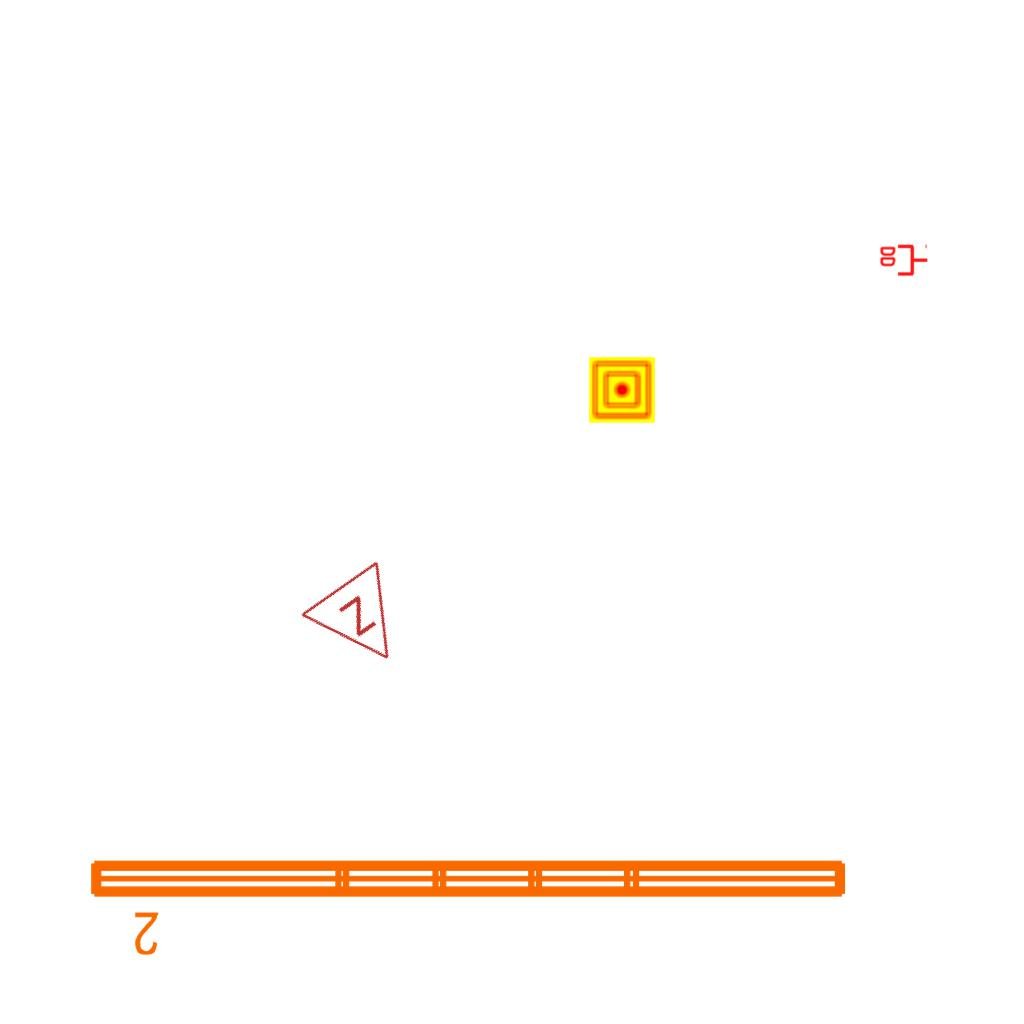Ambulanz_Pendelleuchte_LED: (82, 848, 856, 960)
Datenanschluss_zweifach: (878, 244, 929, 278)
NAM-Nichtautomatischer_Melder: (589, 357, 655, 423)
Zimmersignalleuchte: (295, 552, 433, 692)
